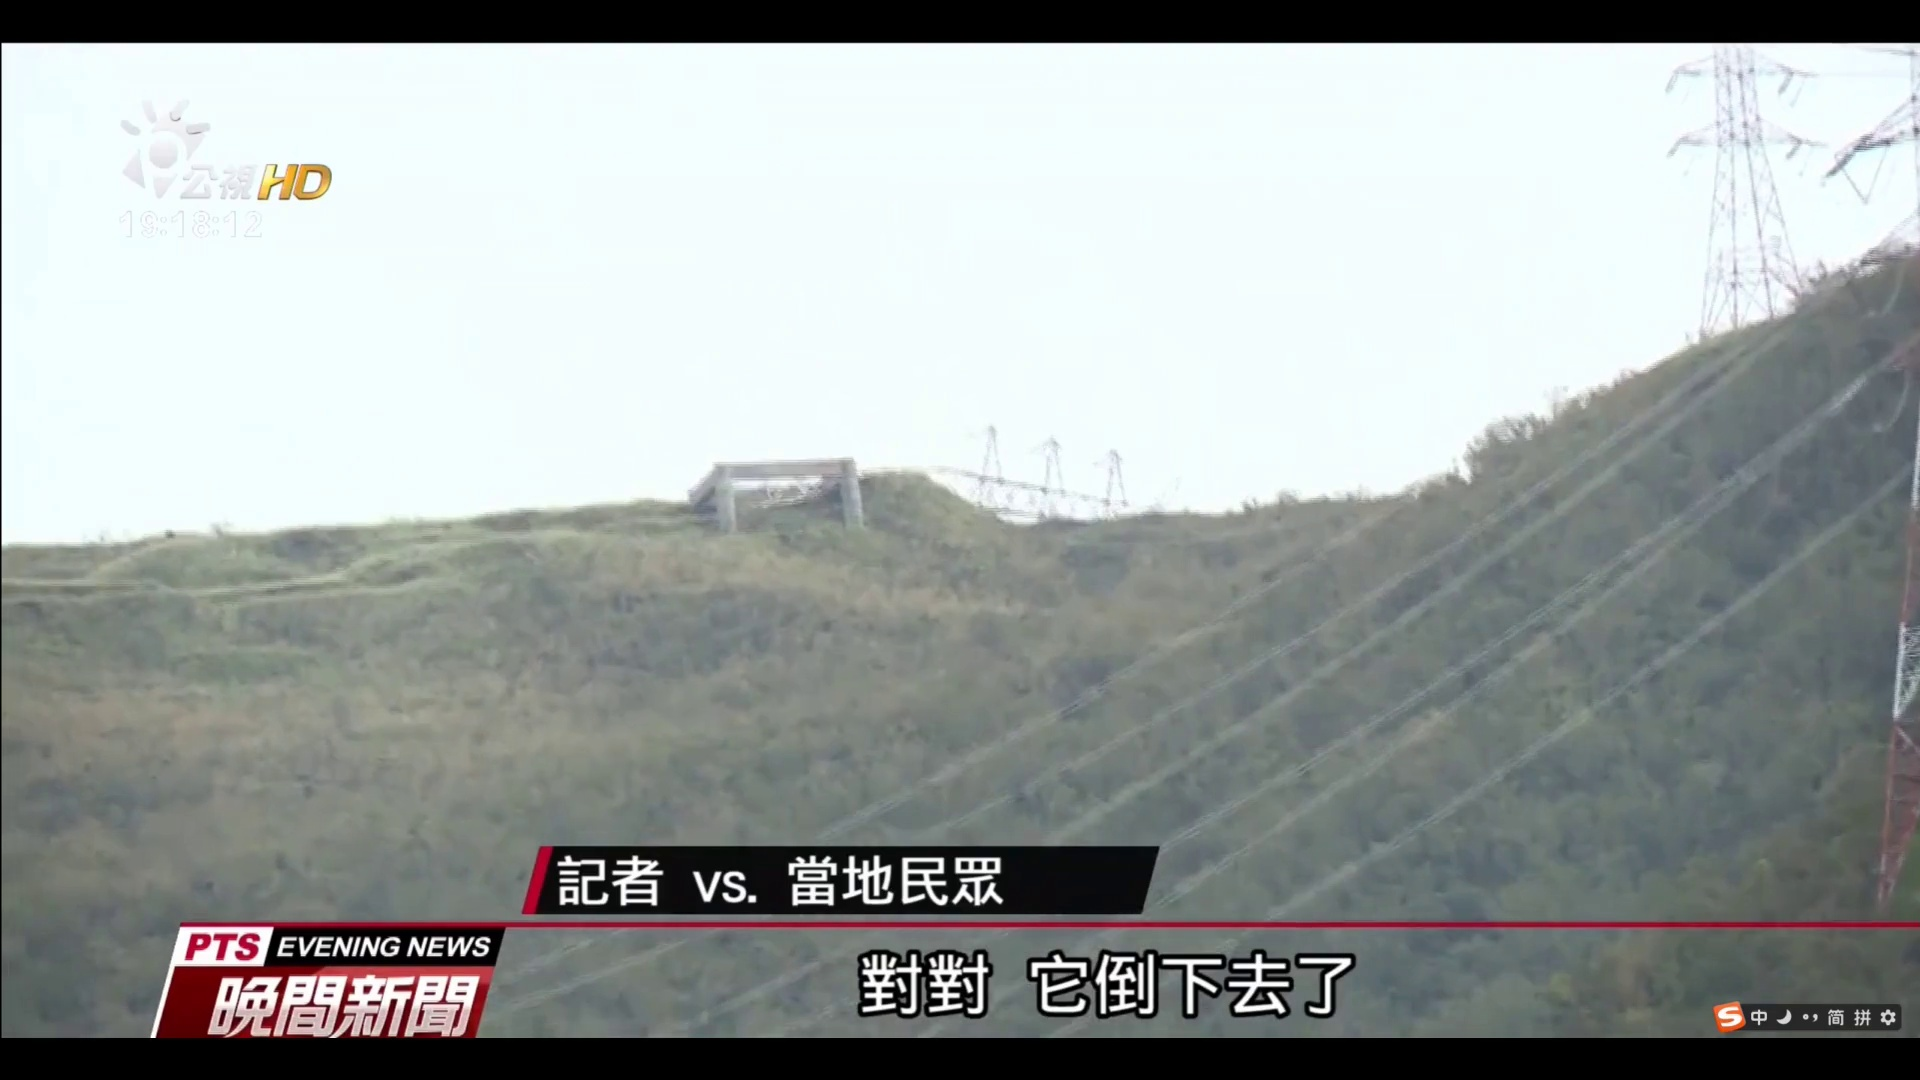tower_down: (924, 423, 1216, 538)
